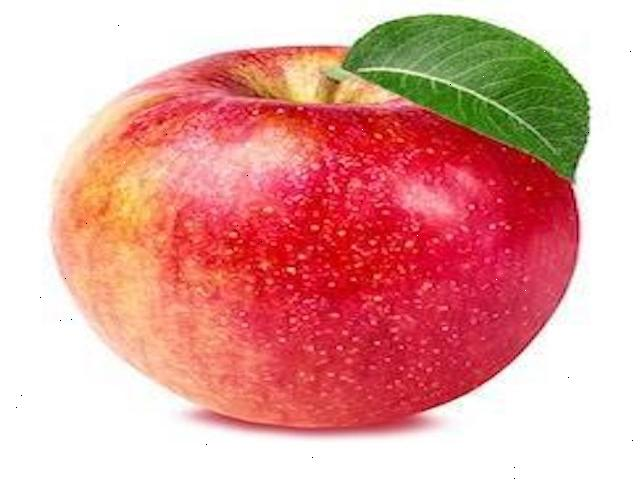apple: (42, 8, 590, 434)
